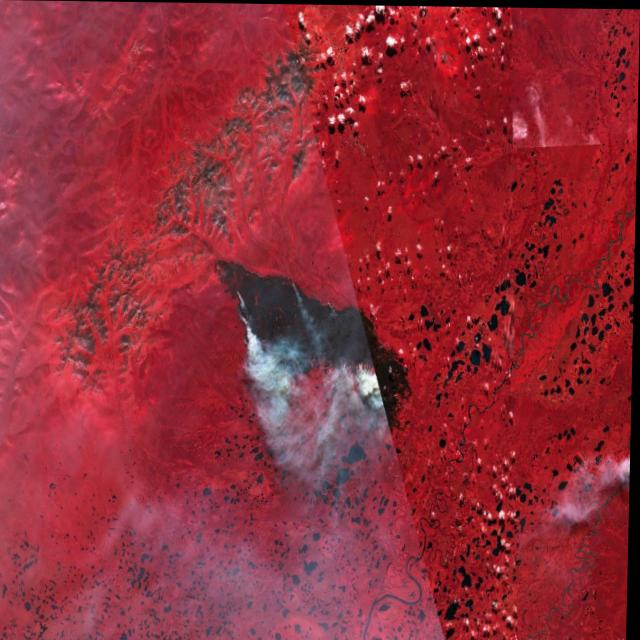fire: (230, 281, 406, 405)
